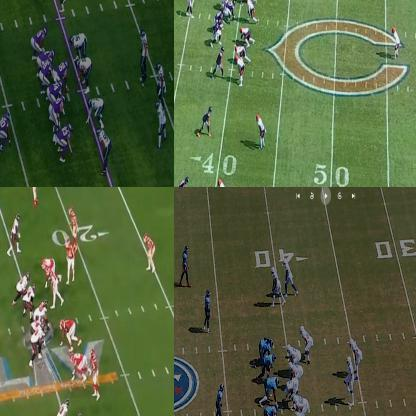CENTER: (52, 60, 70, 90), (284, 379, 297, 402), (34, 300, 49, 317), (224, 1, 235, 21)
DB: (156, 100, 167, 146), (69, 206, 80, 245), (144, 233, 155, 270), (182, 243, 190, 288), (256, 115, 266, 150), (206, 288, 212, 334), (394, 26, 402, 60), (236, 54, 243, 88), (30, 187, 39, 207), (218, 178, 229, 186)
LB: (62, 236, 76, 284), (46, 266, 62, 306), (138, 27, 149, 77), (156, 61, 166, 103), (262, 353, 279, 375), (216, 380, 226, 415), (248, 0, 257, 24), (58, 0, 68, 9)
QB: (38, 55, 52, 101), (346, 357, 353, 404), (189, 0, 196, 18)
SKILL: (58, 125, 71, 163), (0, 111, 11, 154), (10, 214, 21, 254), (302, 326, 313, 366), (271, 266, 282, 305), (284, 258, 296, 291), (50, 396, 70, 415), (350, 336, 363, 362), (201, 106, 213, 134), (215, 46, 226, 76), (174, 176, 188, 186)
